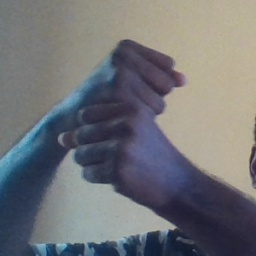G: (62, 32, 188, 194)
